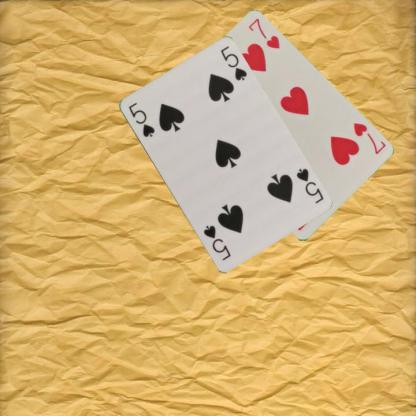5s: (293, 165, 325, 205), (125, 99, 156, 139)
7h: (350, 119, 387, 156)
